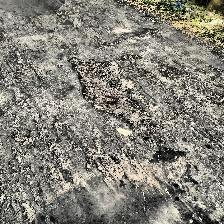pothole: (68, 56, 146, 122), (141, 26, 159, 38)
